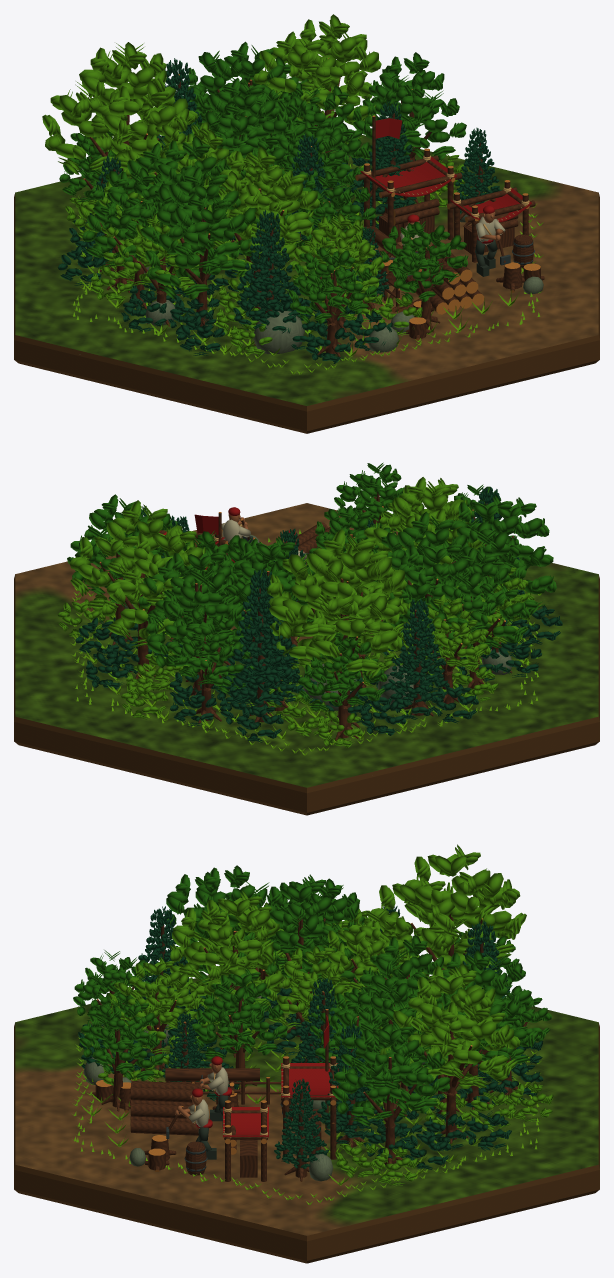
File: forest-camp-lod0.fbx
3 views of the same model, one above another, from view 1: azimuth 30°, elevation 25°; view 2: azimuth 150°, elevation 25°; view 3: azimuth 270°, elevation 25° (orthographic).
Visible parts, largest first — view 1: LOD0_树林, LOD0_地块, LOD0_地被, LOD0_营地, LOD0_营地_玩家色, LOD0_人物; view 2: LOD0_树林, LOD0_地块, LOD0_地被, LOD0_营地, LOD0_人物, LOD0_营地_玩家色; view 3: LOD0_树林, LOD0_地块, LOD0_地被, LOD0_营地, LOD0_营地_玩家色, LOD0_人物.
Boxes of the visible parts, x1,y1,x2,y2 form: LOD0_树林: [42, 14, 501, 357]; LOD0_地块: [14, 135, 599, 433]; LOD0_地被: [58, 148, 543, 374]; LOD0_营地: [355, 115, 544, 340]; LOD0_营地_玩家色: [360, 118, 531, 222]; LOD0_人物: [400, 212, 510, 283]; LOD0_树林: [67, 462, 556, 740]; LOD0_地块: [14, 503, 599, 815]; LOD0_地被: [57, 529, 562, 755]; LOD0_营地: [159, 512, 330, 564]; LOD0_人物: [221, 514, 309, 559]; LOD0_营地_玩家色: [159, 514, 234, 569]; LOD0_树林: [73, 844, 551, 1181]; LOD0_地块: [14, 957, 599, 1263]; LOD0_地被: [72, 979, 553, 1204]; LOD0_营地: [92, 1009, 338, 1181]; LOD0_营地_玩家色: [223, 1015, 338, 1137]; LOD0_人物: [165, 1062, 228, 1159].
Bounding box in the file's own units: 7.9 × 2.8 × 6.84.
